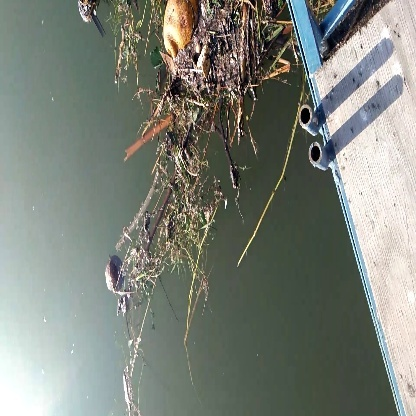branch: (114, 111, 175, 165)
